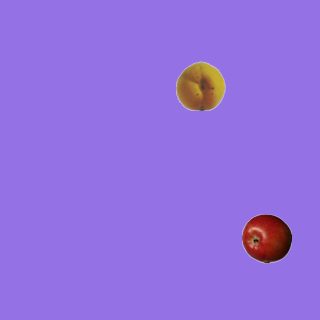Apple Braeburn: (241, 213, 291, 263)
Peach 2: (175, 60, 225, 110)
